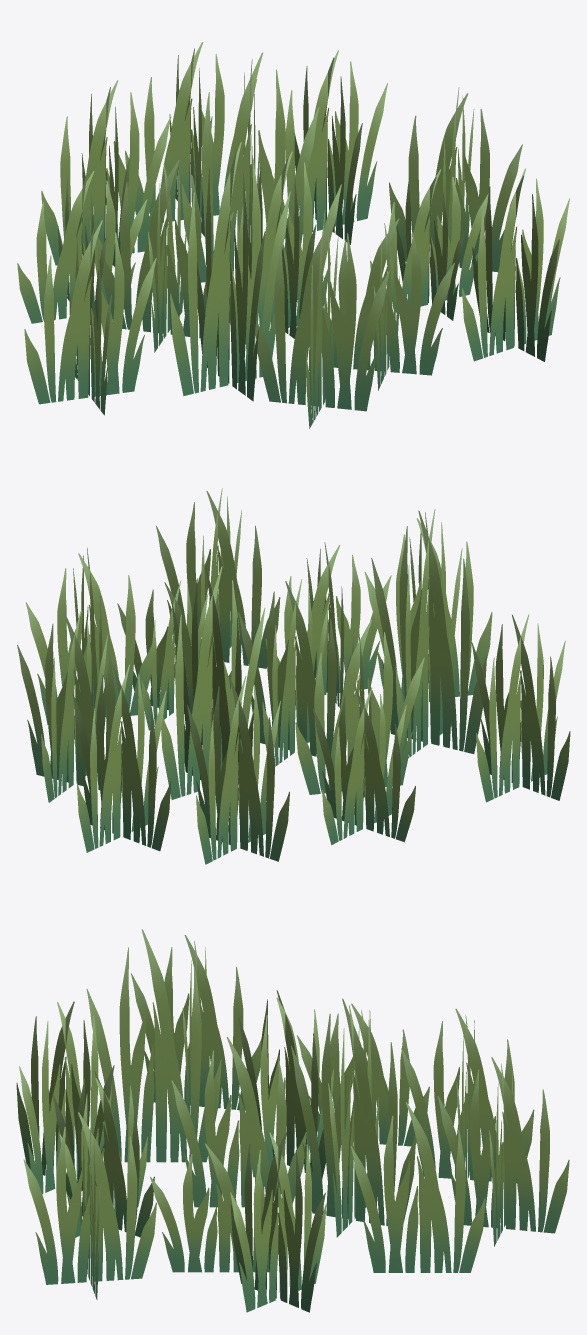
File: grass.fbx
3 views of the same model, one above another, from view 1: azimuth 30°, elevation 25°; view 2: azimuth 150°, elevation 25°; view 3: azimuth 270°, elevation 25° (orthographic). The views are drawn at different scales.
Visible parts, largest first — view 1: polySurface18; view 2: polySurface18; view 3: polySurface18.
Part boxes in pixels (x1,y1,x2,y2): polySurface18: (17, 42, 569, 428); polySurface18: (17, 488, 570, 864); polySurface18: (16, 929, 569, 1312).
Size of the model in its own units: 5.64 by 2.51 by 5.47.
Materials: 1 (1 with a texture image).
